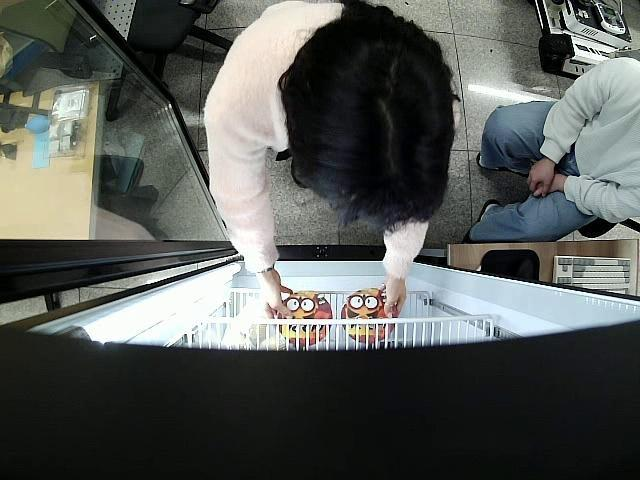05_nuguri_L: (276, 290, 332, 346), (341, 288, 395, 344)
